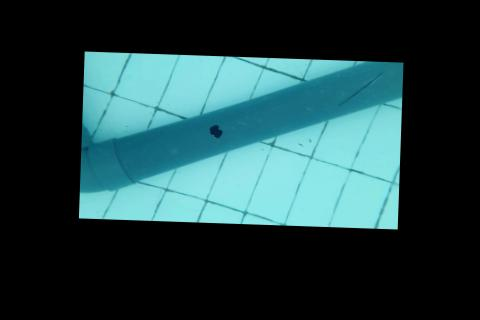kebocoran: (206, 122, 223, 139)
keretakan: (336, 69, 385, 109)
